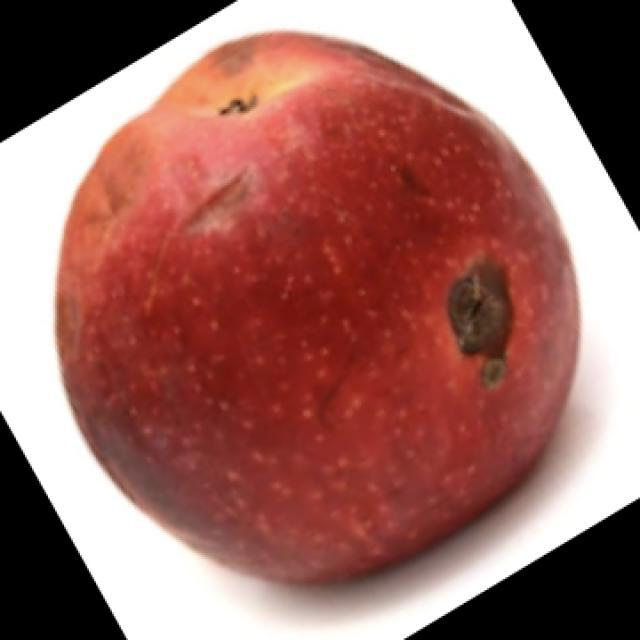Rotten: (62, 33, 555, 575)
